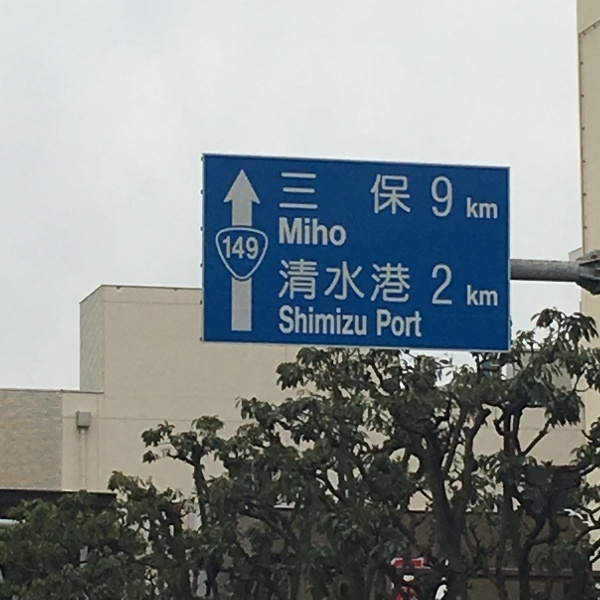text: (289, 258, 304, 304), (305, 258, 320, 304), (321, 258, 336, 304), (337, 258, 352, 304), (353, 258, 368, 304), (369, 258, 384, 304), (385, 258, 400, 304), (289, 171, 304, 216), (305, 171, 320, 216), (321, 171, 336, 216), (337, 171, 352, 216), (353, 171, 368, 216), (369, 171, 384, 216), (385, 171, 400, 216), (433, 175, 448, 217), (433, 263, 448, 305), (289, 216, 304, 247), (305, 216, 320, 247), (321, 216, 336, 247), (289, 305, 304, 336), (305, 305, 320, 336), (321, 305, 336, 336), (337, 305, 352, 336), (353, 305, 368, 336), (401, 171, 411, 216), (385, 308, 400, 338), (401, 308, 416, 338), (279, 258, 288, 304), (401, 258, 410, 304), (225, 236, 240, 260), (241, 236, 256, 260), (280, 171, 288, 216), (337, 216, 348, 247), (481, 197, 496, 219), (481, 285, 496, 307), (467, 197, 480, 219), (467, 285, 480, 307), (279, 216, 288, 247), (279, 305, 288, 336), (376, 308, 384, 338), (449, 175, 453, 217), (449, 263, 453, 305), (417, 308, 422, 338), (497, 285, 499, 307), (431, 175, 432, 217), (223, 236, 224, 260), (257, 236, 258, 260), (497, 197, 498, 219)
